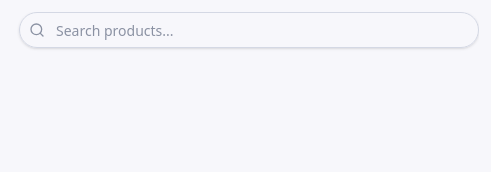
Scenario: SearchBar › shows recent searches when the field is focused empty
What coordinates should you click on to do the following:
click the dropdown
I would click on:
 (249, 30)
Its box is top-left (19, 12), bottom-right (479, 48).
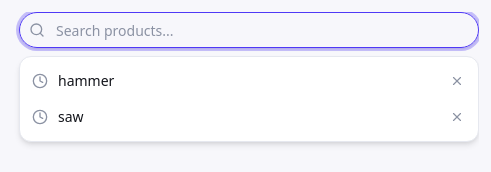
Result: the text "hammer" is shown at top-left (58, 71), bottom-right (114, 90)
Result: the text "saw" is shown at top-left (58, 107), bottom-right (84, 126)
